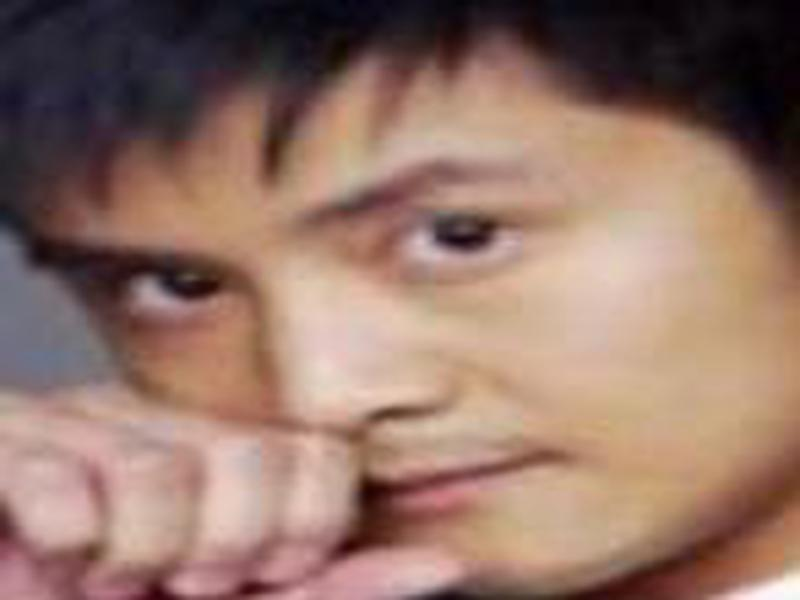without_mask: (19, 40, 761, 582)
